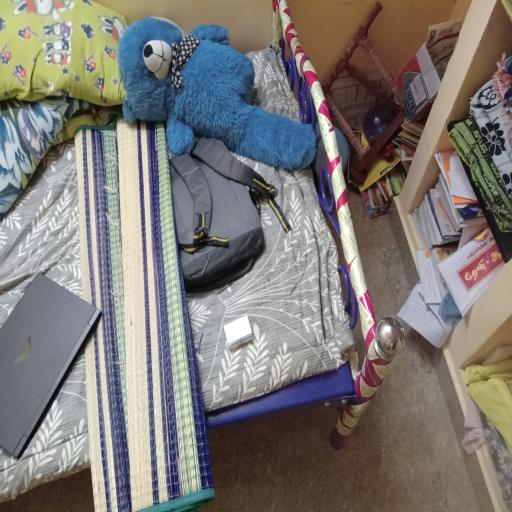Dove`1: (220, 314, 255, 354)
